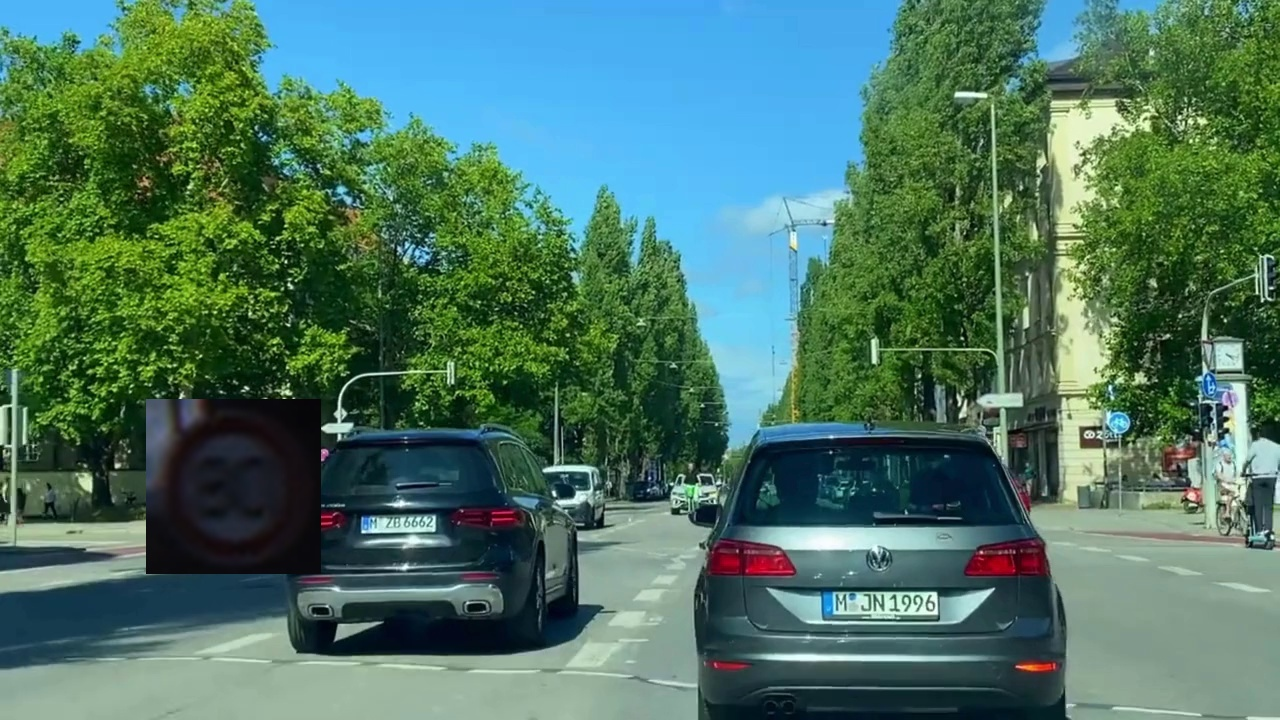Speed 80: (146, 399, 321, 574)
